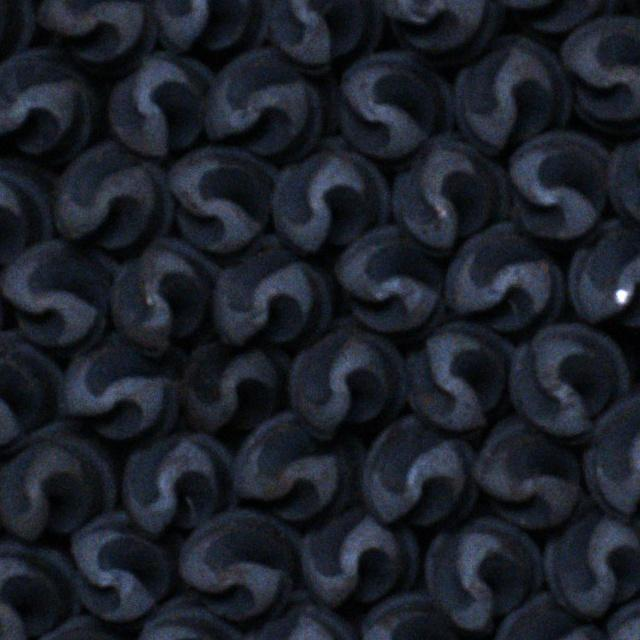tool_b: (232, 410, 364, 520), (454, 34, 574, 153), (174, 508, 301, 620), (424, 516, 542, 636), (286, 318, 405, 436), (394, 136, 511, 255), (508, 322, 630, 436), (59, 332, 184, 442), (270, 140, 390, 253), (332, 49, 452, 162), (362, 416, 478, 531), (0, 423, 117, 537), (53, 142, 176, 250), (109, 237, 221, 355), (204, 45, 323, 156), (212, 234, 332, 344), (0, 240, 119, 350), (444, 224, 564, 332), (472, 418, 584, 531), (404, 320, 516, 429), (300, 508, 420, 609), (162, 148, 276, 254), (332, 227, 442, 336), (124, 434, 241, 536), (505, 133, 611, 243), (109, 51, 219, 156), (70, 511, 174, 622), (543, 500, 640, 617), (0, 45, 95, 157), (176, 343, 290, 434), (560, 16, 640, 136), (32, 0, 156, 72), (266, 0, 384, 69), (372, 0, 502, 62), (569, 220, 640, 330), (0, 538, 78, 637), (0, 328, 61, 451), (584, 385, 640, 516), (150, 0, 268, 54), (238, 591, 359, 640), (0, 158, 55, 265), (490, 592, 612, 640), (358, 592, 472, 640), (131, 593, 246, 640), (488, 0, 618, 38), (607, 115, 640, 239), (24, 616, 130, 640), (0, 0, 33, 67)
